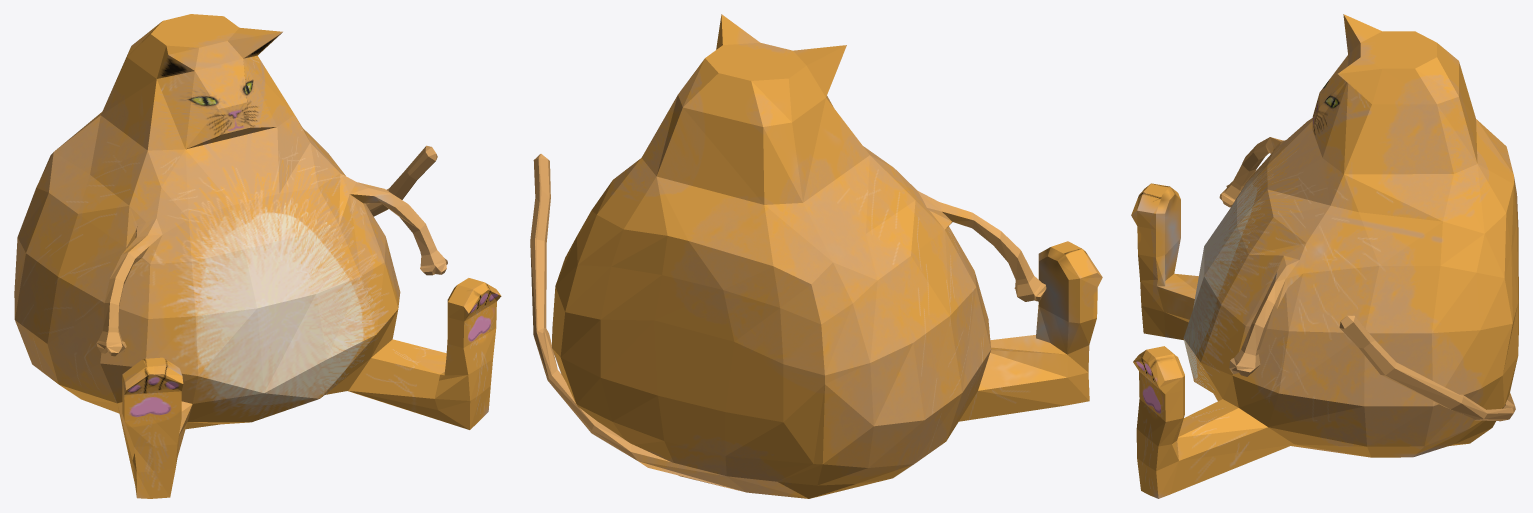
Rendered from Cat.FBX.
3 renders of one model, left to right at view 1: azimuth 30°, elevation 25°; view 2: azimuth 150°, elevation 25°; view 3: azimuth 270°, elevation 25°, orthographic. The views are drawn at different scales.
Parts seen in each view (by area): view 1: Box004; view 2: Box004; view 3: Box004.
Part boxes in pixels (<box>): Box004: <box>14,14,501,498</box>; Box004: <box>530,14,1102,498</box>; Box004: <box>1131,14,1518,498</box>.
Size of the model in its own units: 22.42 by 18.85 by 17.82.
Materials: 1 (1 with a texture image).
